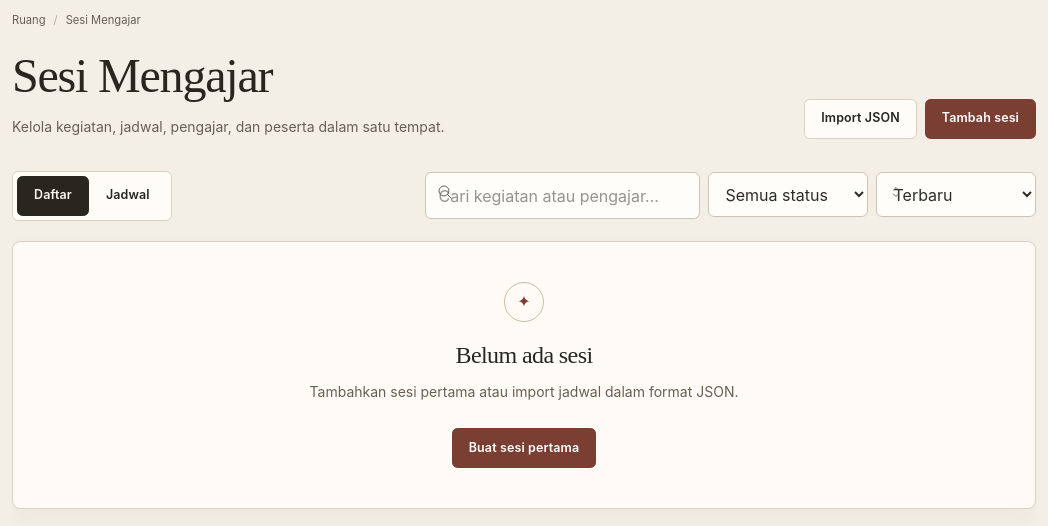
it: SessionsPage › ignores stale debounced search responses
Expected: the heading "Belum ada sesi" is shown, x1=456 y1=342 x2=592 y2=368
Type "lama" into the field named "Cari sesi" at {"x": 563, "y": 196}, box x1=425 y1=172 x2=700 y2=220
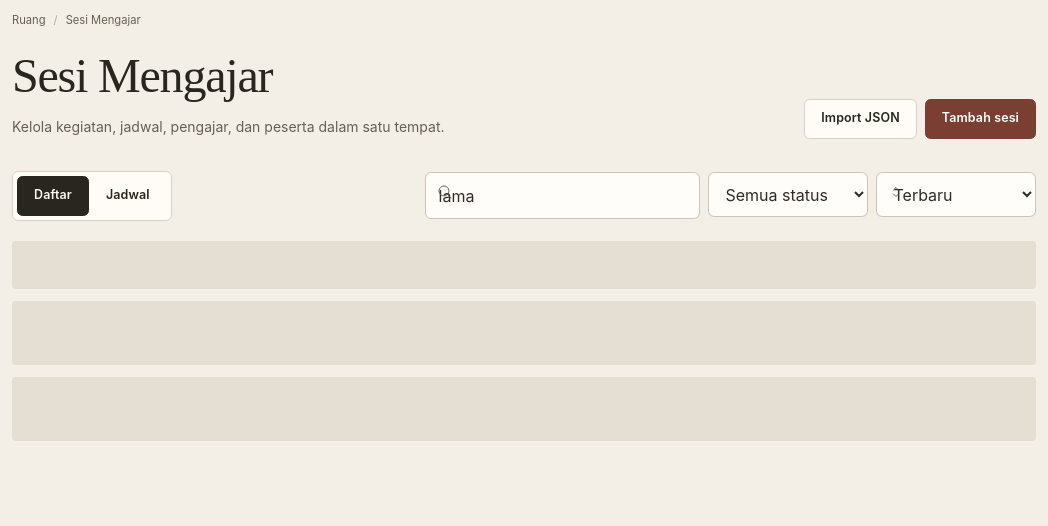
Replace the text in the field named "Cari sesi" with "baru" at {"x": 563, "y": 196}, box x1=425 y1=172 x2=700 y2=220
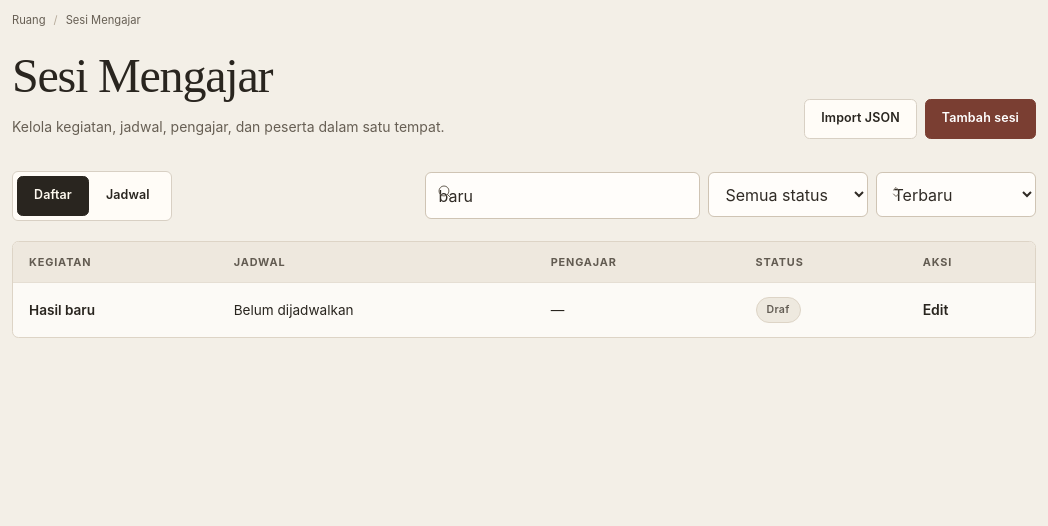
Expected: the link "Hasil baru" is shown, x1=29 y1=302 x2=95 y2=318
